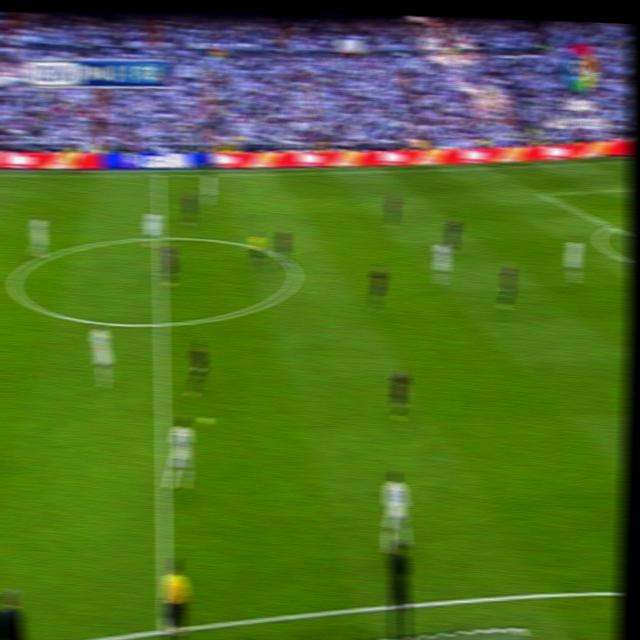halfcircle_bottom: (152, 308, 170, 338)
halfcircle_top: (153, 227, 167, 246)
midline_top_intersection: (152, 167, 166, 183)
top_arc_area_intersection: (605, 218, 617, 232)
